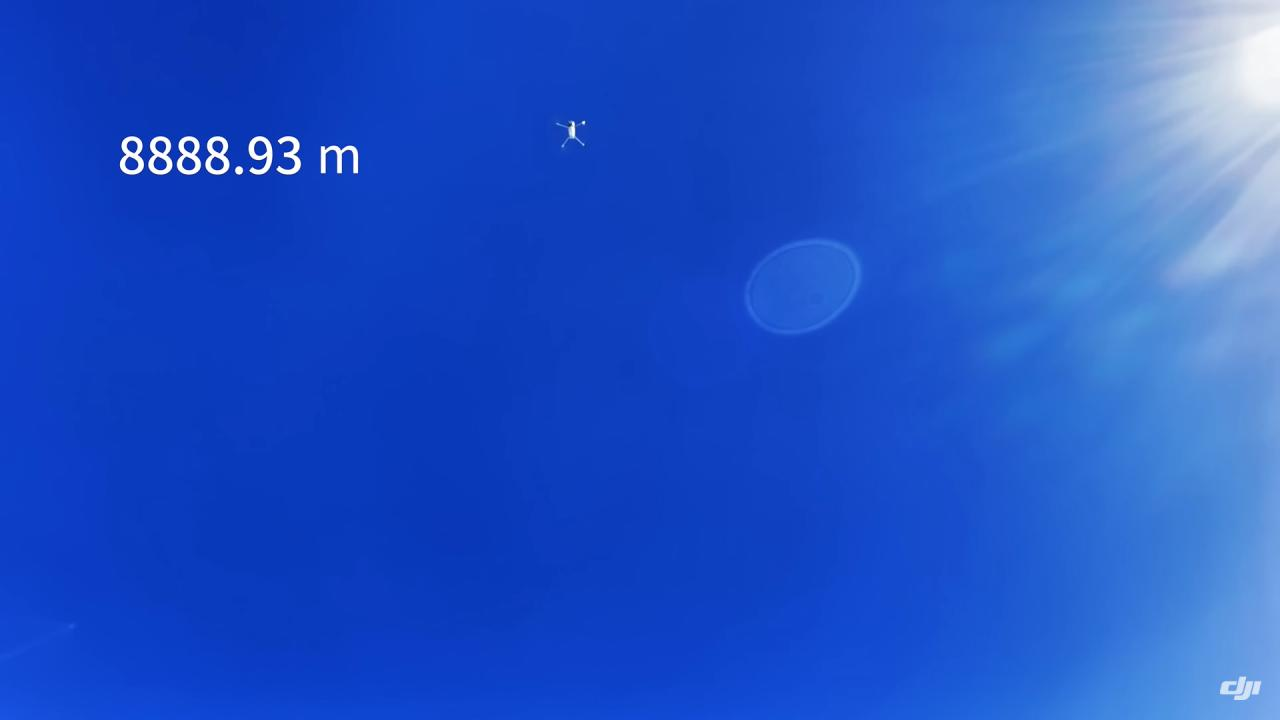Drone: (545, 107, 599, 160)
